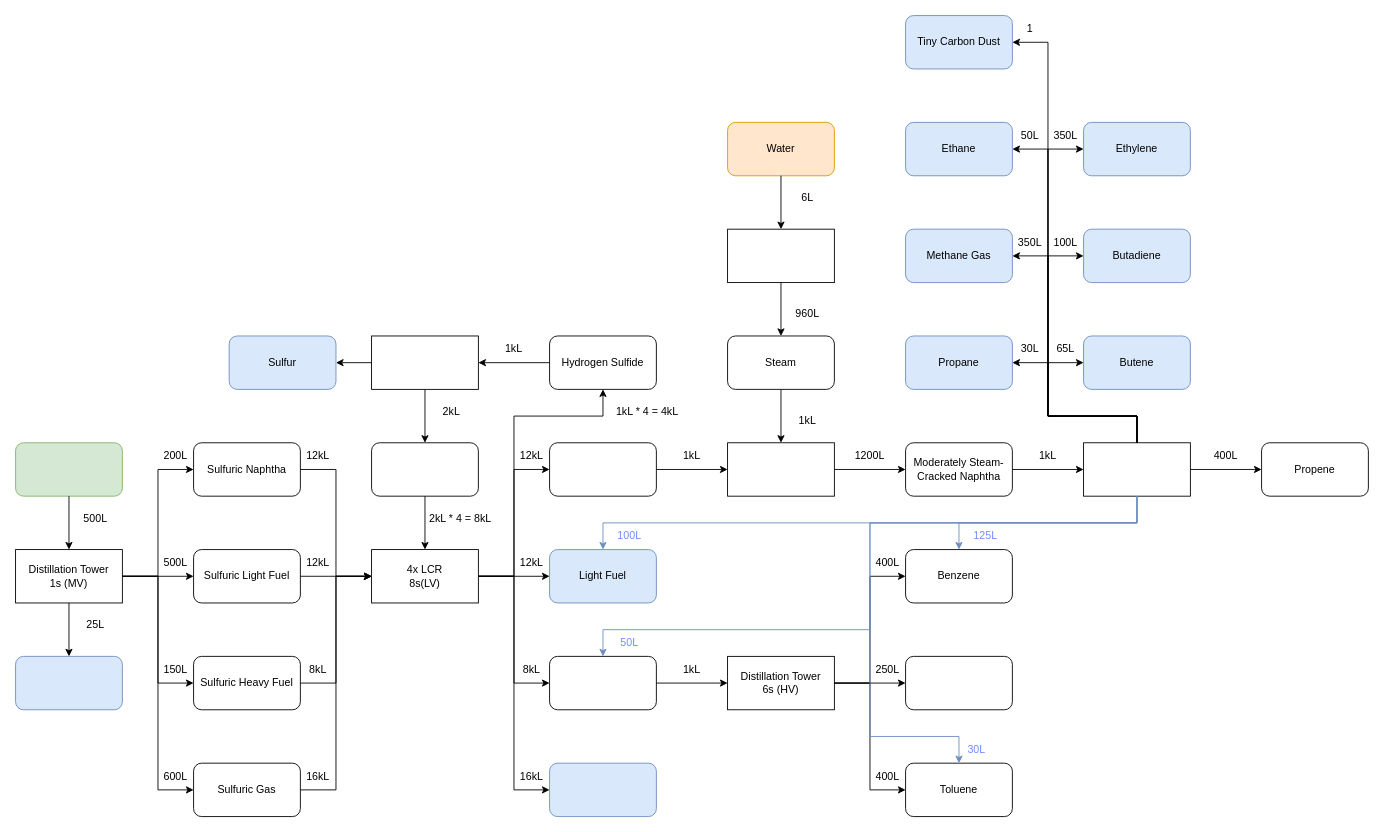
The diagram is 1384 pixels wide and 832 high, and some of its shapes have lost their labels. The box of each missing label's shape, as (x1, y1, x2, y2) in pixels:
Distillation Tower 6s (MV): (1083, 442, 1190, 496)
Electrolyzer 7.2s(MV): (371, 335, 478, 389)
Fluid Heater 1.5s (LV): (727, 228, 834, 283)
Heavy Fuel: (549, 655, 656, 710)
Hydrogen: (371, 442, 478, 496)
Naphtha: (549, 442, 656, 496)
Napthenic Acid: (15, 655, 122, 710)
Oil: (15, 442, 122, 496)
Oil Cracking Unit 2s (HV): (727, 442, 834, 496)
Phenol: (905, 655, 1012, 710)
Refinery Gas: (549, 762, 656, 817)
